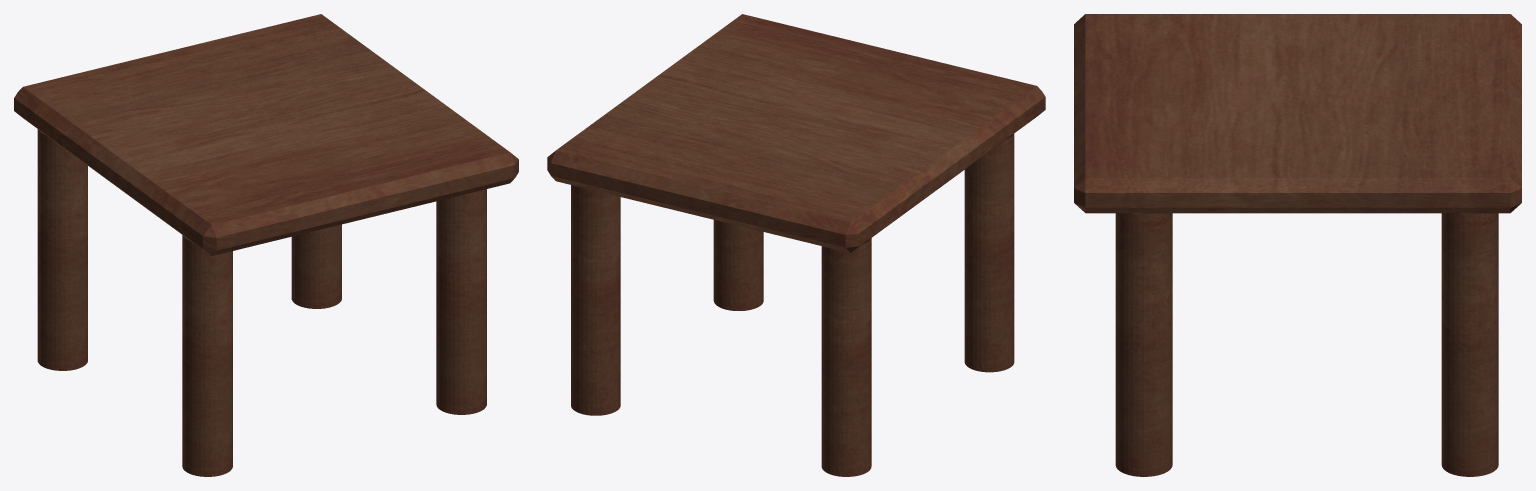
Rendered from Chair_Simple.glb.
3 renders of one model, left to right at view 1: azimuth 30°, elevation 25°; view 2: azimuth 150°, elevation 25°; view 3: azimuth 270°, elevation 25°, orthographic. The views are drawn at different scales.
Parts seen in each view (by area): view 1: chair_simple.001; view 2: chair_simple.001; view 3: chair_simple.001.
Part boxes in pixels (<box>): chair_simple.001: <box>14,14,518,476</box>; chair_simple.001: <box>547,14,1045,476</box>; chair_simple.001: <box>1074,14,1521,476</box>.
Size of the model in its own units: 0.7513 by 0.6039 by 0.8191.
Materials: 1 (1 with a texture image).
